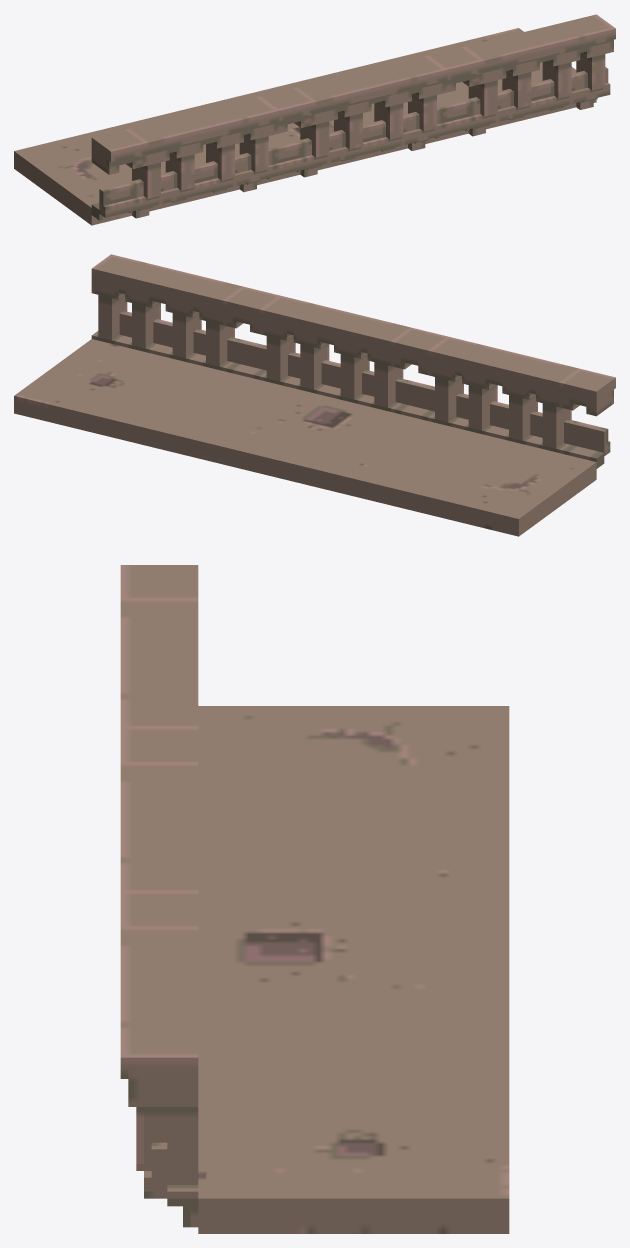
File: Bridge-1.fbx
3 renders of one model, top to bottom at view 1: azimuth 30°, elevation 25°; view 2: azimuth 150°, elevation 25°; view 3: azimuth 270°, elevation 25°, orthographic. The views are drawn at different scales.
Visible parts, largest first — view 1: Bridge-1; view 2: Bridge-1; view 3: Bridge-1.
Part boxes in pixels (left/top/right/bottom): Bridge-1: left=14, top=14, right=615, bottom=225; Bridge-1: left=14, top=254, right=615, bottom=536; Bridge-1: left=120, top=565, right=509, bottom=1233.
Bounding box in the file's own units: 750 × 125 × 250.
